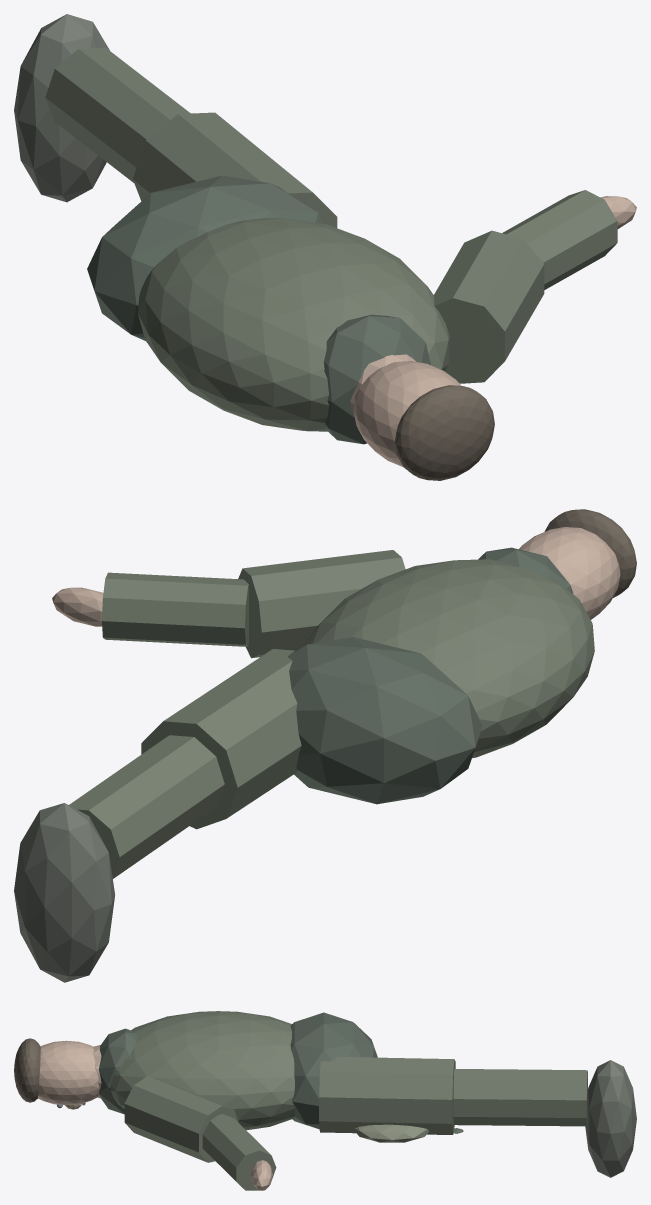
The model's file is hero.glb.
3 views of the same model, one above another, from view 1: azimuth 30°, elevation 25°; view 2: azimuth 150°, elevation 25°; view 3: azimuth 270°, elevation 25° (orthographic). The views are drawn at different scales.
Visible parts, largest first — view 1: torso, pelvis, upper_arm, shin, boot, thigh, short_hair, collar, forearm, head, hand; view 2: torso, pelvis, boot, thigh, shin, forearm, upper_arm, head, short_hair, hand, collar; view 3: torso, thigh, shin, upper_arm, pelvis, boot, head, forearm, collar, short_hair, cargo_pocket, hand.
Boxes of the visible parts, left/top/right/bottom form: torso: left=138, top=217, right=450, bottom=431; pelvis: left=87, top=175, right=321, bottom=340; upper_arm: left=433, top=230, right=544, bottom=383; shin: left=45, top=47, right=190, bottom=182; boot: left=14, top=14, right=109, bottom=202; thigh: left=133, top=112, right=337, bottom=227; short_hair: left=394, top=385, right=494, bottom=480; collar: left=323, top=314, right=430, bottom=444; forearm: left=502, top=190, right=617, bottom=289; head: left=353, top=361, right=461, bottom=467; hand: left=600, top=196, right=636, bottom=228; torso: left=304, top=559, right=594, bottom=758; pelvis: left=287, top=637, right=482, bottom=804; boot: left=14, top=803, right=114, bottom=982; thigh: left=141, top=649, right=301, bottom=829; shin: left=69, top=735, right=224, bottom=878; forearm: left=102, top=572, right=248, bottom=646; upper_arm: left=238, top=550, right=405, bottom=658; head: left=519, top=527, right=620, bottom=619; short_hair: left=544, top=509, right=636, bottom=597; hand: left=52, top=587, right=103, bottom=626; collar: left=478, top=547, right=573, bottom=593; torso: left=110, top=1011, right=294, bottom=1130; thigh: left=319, top=1057, right=455, bottom=1134; shin: left=453, top=1069, right=587, bottom=1126; upper_arm: left=124, top=1076, right=238, bottom=1162; pelvis: left=290, top=1012, right=377, bottom=1129; boot: left=585, top=1060, right=636, bottom=1177; head: left=38, top=1040, right=99, bottom=1105; forearm: left=202, top=1114, right=276, bottom=1190; collar: left=99, top=1028, right=136, bottom=1114; short_hair: left=14, top=1038, right=40, bottom=1102; cargo_pocket: left=353, top=1124, right=428, bottom=1142; hand: left=251, top=1160, right=272, bottom=1190.
Size of the model in its own units: 1.17 by 0.455 by 2.01.
